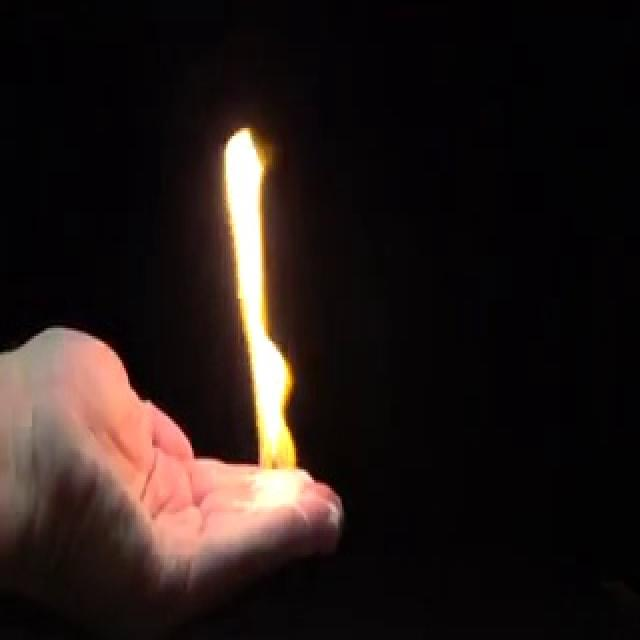fire: (220, 119, 310, 522)
